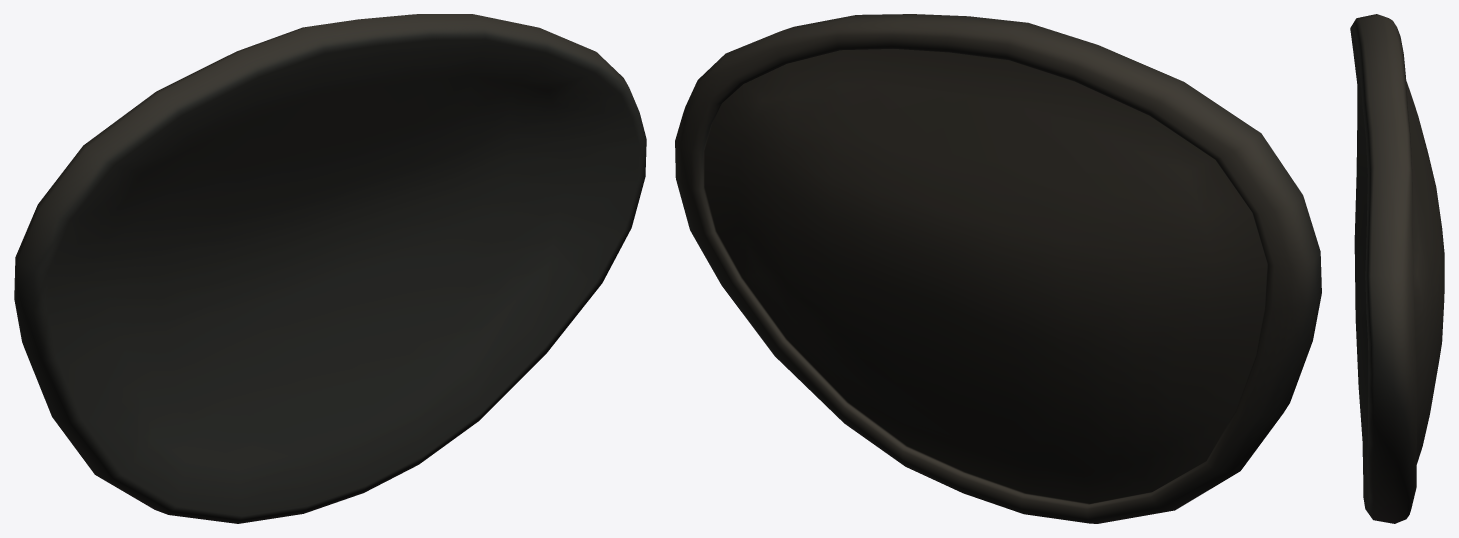
The model's file is PirateEyepatch.fbx.
3 renders of one model, left to right at view 1: azimuth 30°, elevation 25°; view 2: azimuth 150°, elevation 25°; view 3: azimuth 270°, elevation 25°, orthographic. The views are drawn at different scales.
Parts seen in each view (by area): view 1: pCube1; view 2: pCube1; view 3: pCube1.
Part boxes in pixels (bbox=[...]): pCube1: bbox=[14, 14, 646, 523]; pCube1: bbox=[675, 14, 1321, 523]; pCube1: bbox=[1350, 14, 1444, 523].
Size of the model in its own units: 1.51 by 1.09 by 0.2156.
